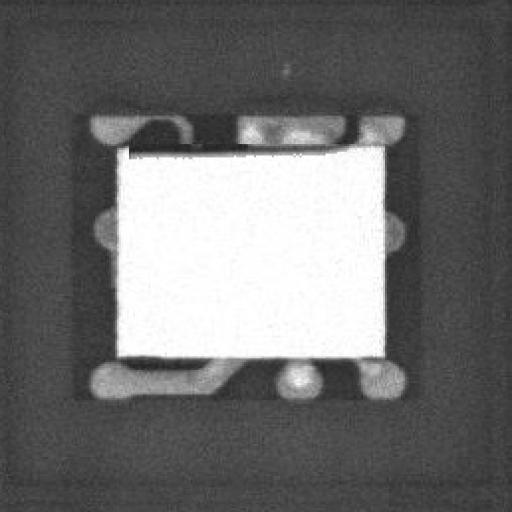DIE_BROKEN: (123, 138, 347, 160)
